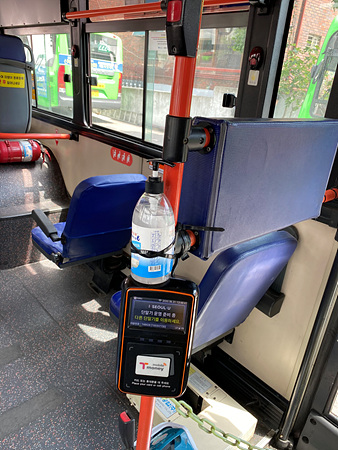terminal: (119, 286, 189, 399)
